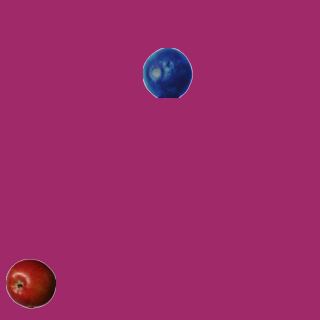Apple Braeburn: (5, 258, 55, 308)
Huckleberry: (142, 47, 192, 97)
